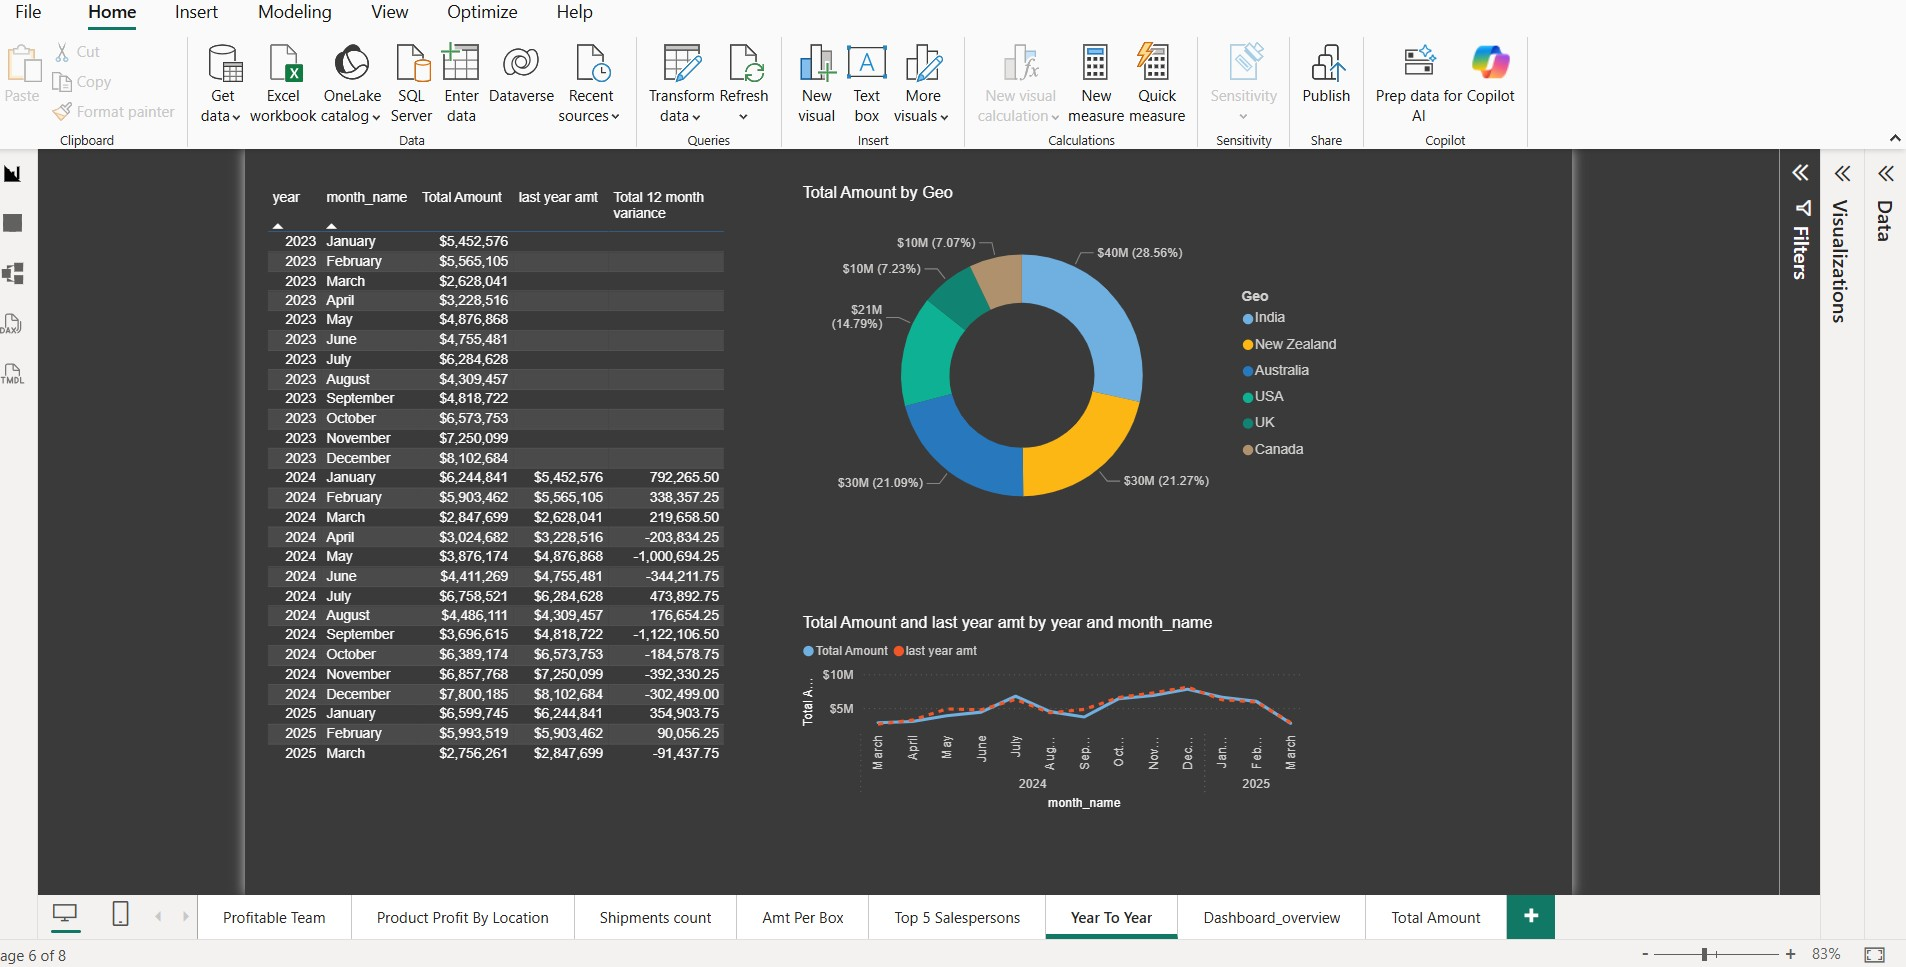

Layout of this report page (visuals, bound fields, positions):
{"tool":"powerbi","page":{"name":"Year To Year","canvas":[1280,720],"ordinal":5},"visuals":[{"type":"tableEx","fields":{"Values":["calendar.year","calendar.month_name","shipments.Total Amount","shipments.last year amt","shipments.Total 12 month variance"]},"box":[15.5,32.7,454.5,630],"z":0},{"type":"lineChart","fields":{"Category":["calendar.year","calendar.month_name"],"Y":["shipments.Total Amount","shipments.last year amt"]},"box":[533.6,448.2,494.5,195.5],"z":1000},{"type":"donutChart","fields":{"Category":["locations.Geo"],"Y":["shipments.Total Amount"]},"box":[533.6,32.7,534.5,354.5],"z":2000}]}

Visuals, with their boxes on the page's 1280x720 design canvas (x1, y1, x2, y2). These are canvas units, not pixel positions in the 1906x967 screenshot, which may show the page scaled, cropped or inside an application window:
tableEx - calendar.year x calendar.month_name: box=[16, 33, 470, 663]
lineChart - calendar.year x calendar.month_name: box=[534, 448, 1028, 644]
donutChart - locations.Geo x shipments.Total Amount: box=[534, 33, 1068, 387]
